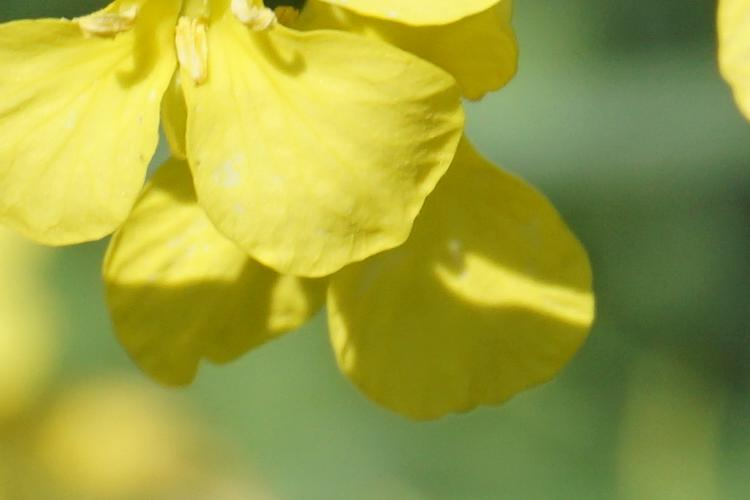yellow: (6, 11, 611, 405)
